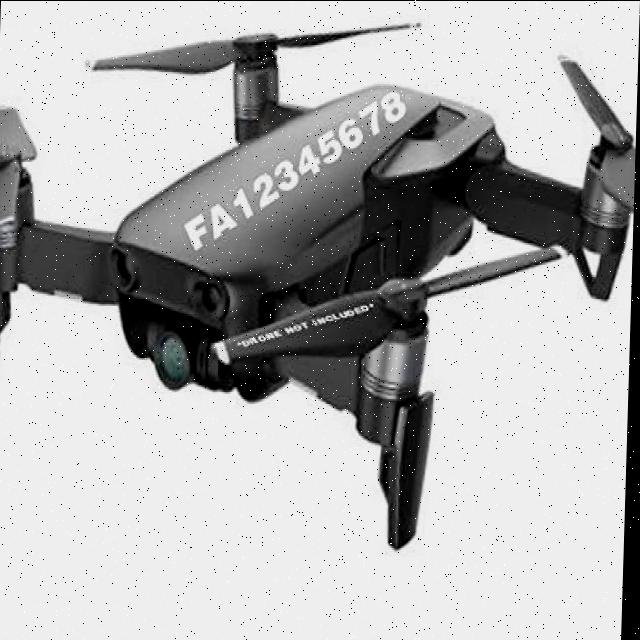drone: (0, 2, 639, 560)
